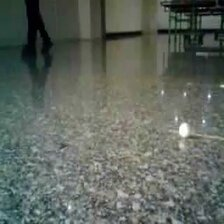w: (178, 121, 191, 138)
